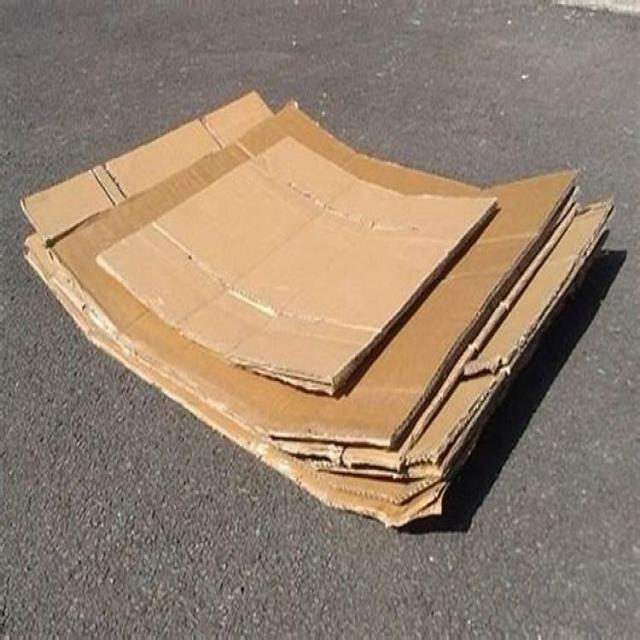cardboard: (21, 90, 617, 531)
